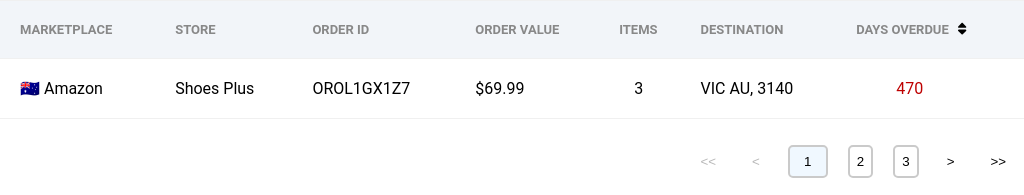
Test: pagination works correctly
Click the button ">".
click(950, 162)  # box x1=939 y1=145 x2=962 y2=178
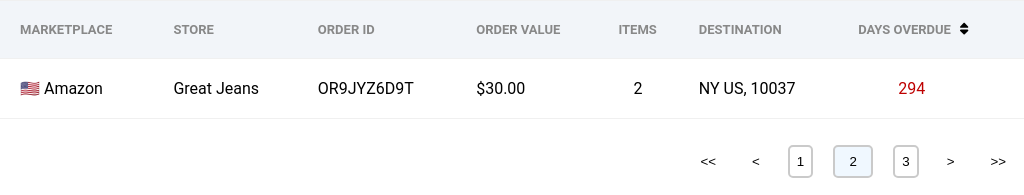
Expected: the text "Great Jeans" is shown, x1=153 y1=58 x2=298 y2=118
